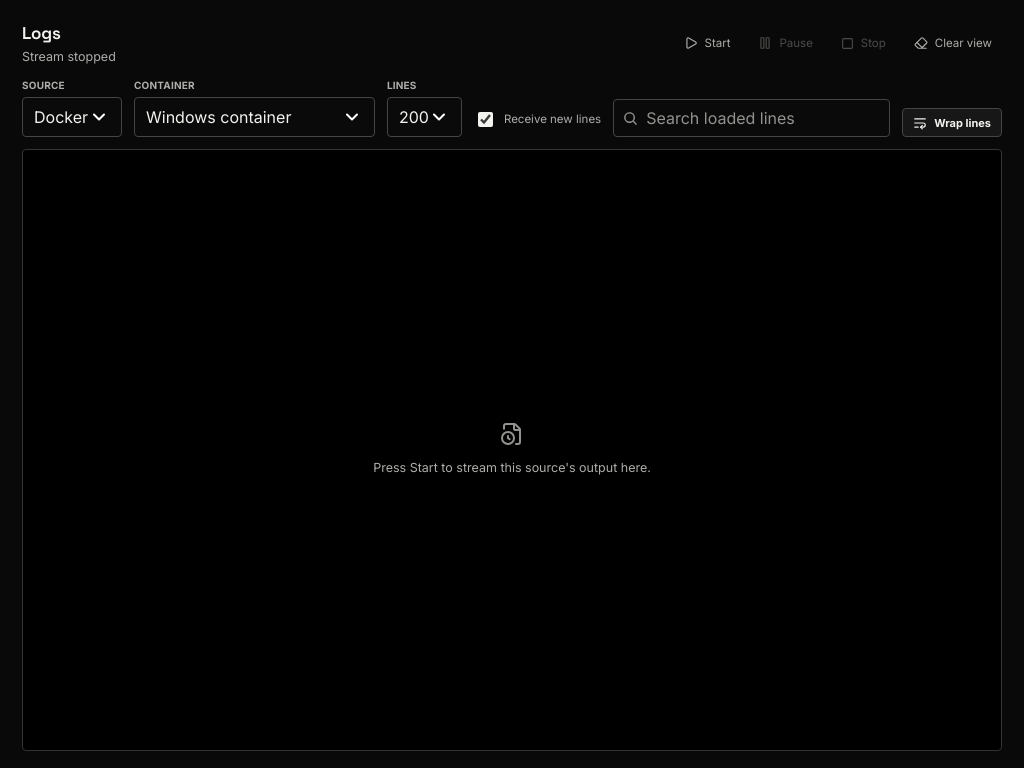
Test: LogsPane reading position › offers only Docker logs on Windows and keeps access failures free of sudo prompts
Click the button "Start" at coordinates (707, 43), box x1=674 y1=28 x2=740 y2=58
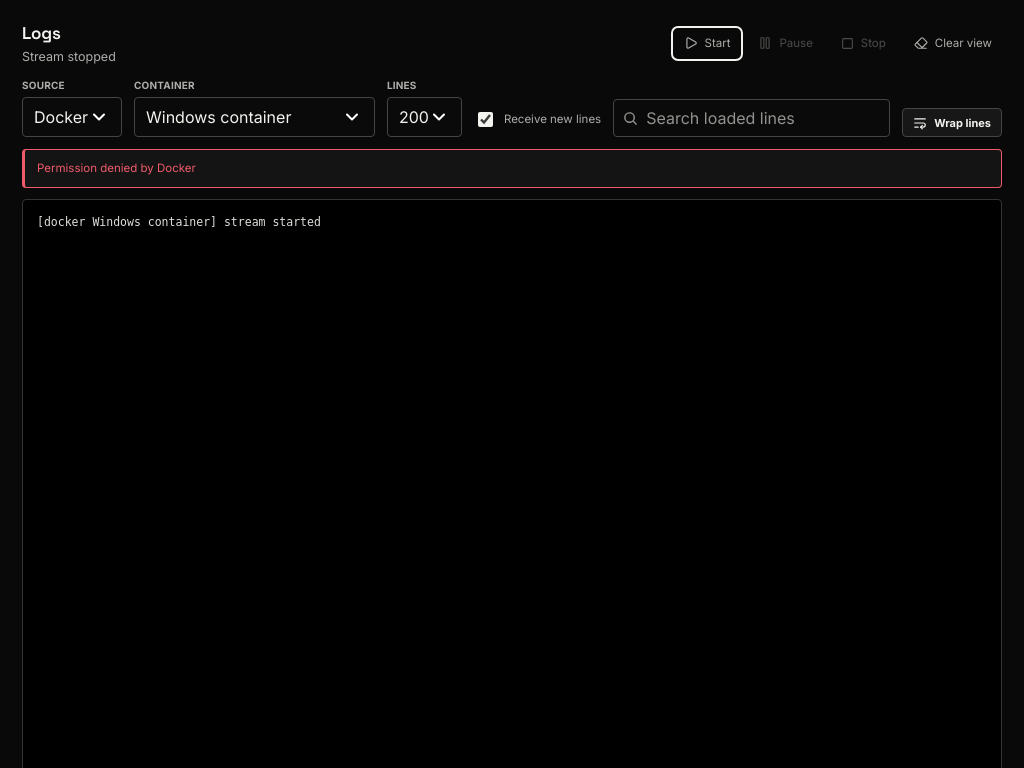
Now the text "Permission denied by Docker" is shown, box x1=37 y1=160 x2=196 y2=177
